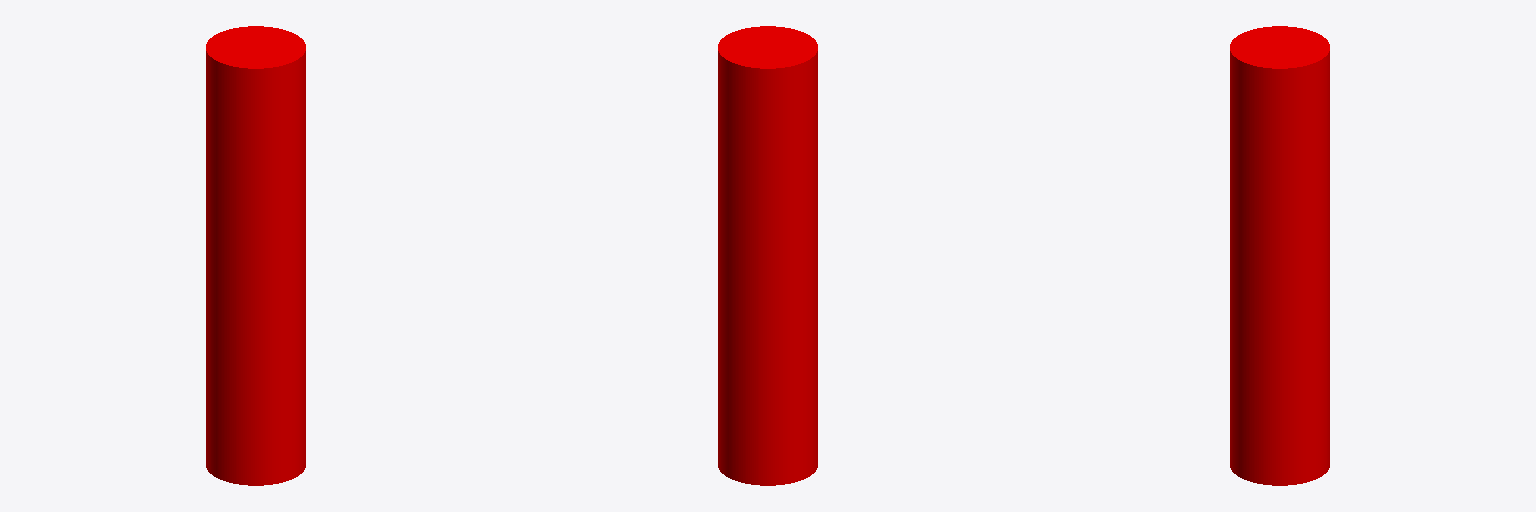
File: newscene.obj
3 views of the same model, side by side, from view 1: azimuth 30°, elevation 25°; view 2: azimuth 150°, elevation 25°; view 3: azimuth 270°, elevation 25° (orthographic).
Parts seen in each view (by area): view 1: cylinder8; view 2: cylinder8; view 3: cylinder8.
Boxes of the visible parts, x1=… form: cylinder8: x1=206, y1=26, x2=305, y2=485; cylinder8: x1=718, y1=26, x2=817, y2=485; cylinder8: x1=1230, y1=26, x2=1329, y2=485.
Size of the model in its own units: 56.06 by 256 by 56.06.